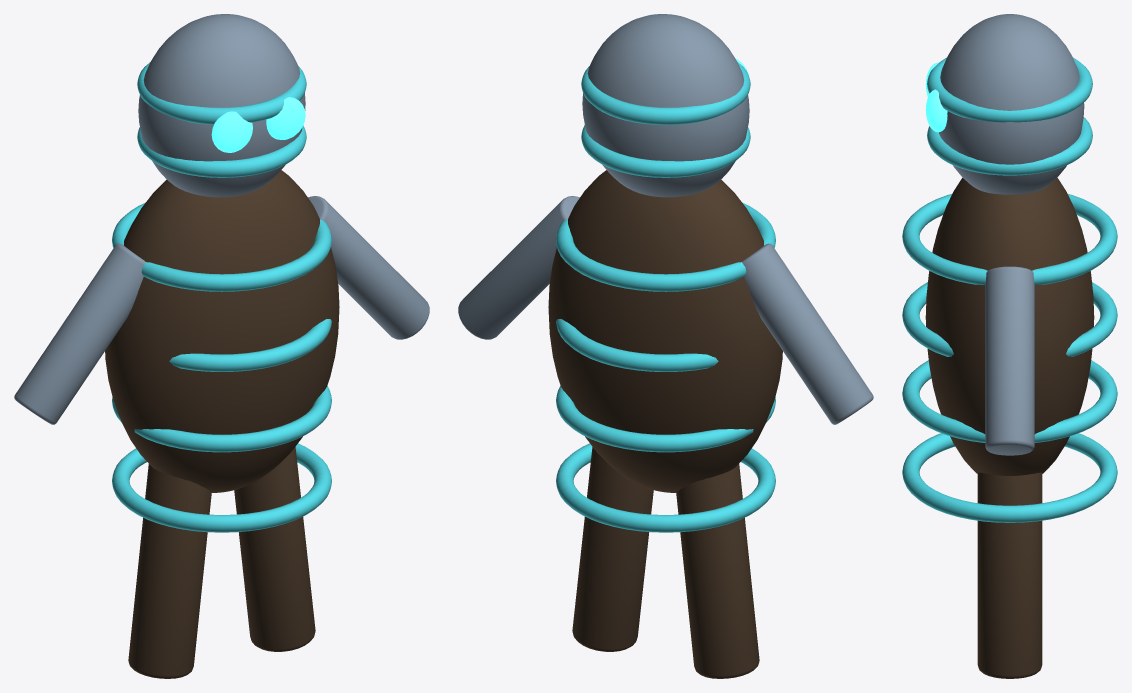
The model's file is undead_v4.glb.
3 views of the same model, side by side, from view 1: azimuth 30°, elevation 25°; view 2: azimuth 150°, elevation 25°; view 3: azimuth 270°, elevation 25° (orthographic). The views are drawn at different scales.
Visible parts, largest first — view 1: MUMMY_TORSO_SECONDARY, MUMMY_HEAD_PRIMARY, MUMMY_LEG_SECONDARY, MUMMY_LEG_SECONDARY.001, MUMMY_ARM_PRIMARY, MUMMY_ARM_PRIMARY.001, MUMMY_WRAP_ACCENT, MUMMY_WRAP_ACCENT.003, MUMMY_WRAP_ACCENT.001, MUMMY_WRAP_ACCENT.002, MUMMY_WRAP_ACCENT.004, MUMMY_WRAP_ACCENT.005 (+2 smaller); view 2: MUMMY_TORSO_SECONDARY, MUMMY_HEAD_PRIMARY, MUMMY_LEG_SECONDARY, MUMMY_LEG_SECONDARY.001, MUMMY_ARM_PRIMARY, MUMMY_ARM_PRIMARY.001, MUMMY_WRAP_ACCENT, MUMMY_WRAP_ACCENT.003, MUMMY_WRAP_ACCENT.001, MUMMY_WRAP_ACCENT.005, MUMMY_WRAP_ACCENT.002, MUMMY_WRAP_ACCENT.004; view 3: MUMMY_TORSO_SECONDARY, MUMMY_HEAD_PRIMARY, MUMMY_LEG_SECONDARY.001, MUMMY_ARM_PRIMARY.001, MUMMY_WRAP_ACCENT, MUMMY_WRAP_ACCENT.003, MUMMY_WRAP_ACCENT.001, MUMMY_WRAP_ACCENT.005, MUMMY_WRAP_ACCENT.002, MUMMY_WRAP_ACCENT.004, EYE_EMISSIVE.001.
Boxes of the visible parts, x1,y1,x2,y2 form: MUMMY_TORSO_SECONDARY: (105,170,339,492); MUMMY_HEAD_PRIMARY: (138,14,305,197); MUMMY_LEG_SECONDARY: (128,464,211,678); MUMMY_LEG_SECONDARY.001: (234,447,315,651); MUMMY_ARM_PRIMARY: (14,243,145,424); MUMMY_ARM_PRIMARY.001: (308,196,429,339); MUMMY_WRAP_ACCENT: (112,443,331,532); MUMMY_WRAP_ACCENT.003: (112,202,331,291); MUMMY_WRAP_ACCENT.001: (112,386,331,452); MUMMY_WRAP_ACCENT.002: (169,319,331,371); MUMMY_WRAP_ACCENT.004: (137,125,306,177); MUMMY_WRAP_ACCENT.005: (137,62,306,124); MUMMY_TORSO_SECONDARY: (548,170,782,492); MUMMY_HEAD_PRIMARY: (582,14,749,197); MUMMY_LEG_SECONDARY: (676,464,759,678); MUMMY_LEG_SECONDARY.001: (572,447,653,651); MUMMY_ARM_PRIMARY: (742,243,873,424); MUMMY_ARM_PRIMARY.001: (458,196,579,339); MUMMY_WRAP_ACCENT: (556,443,775,532); MUMMY_WRAP_ACCENT.003: (556,202,775,291); MUMMY_WRAP_ACCENT.001: (556,386,775,452); MUMMY_WRAP_ACCENT.005: (581,62,750,125); MUMMY_WRAP_ACCENT.002: (556,319,718,371); MUMMY_WRAP_ACCENT.004: (581,125,750,177); MUMMY_TORSO_SECONDARY: (925,177,1094,475); MUMMY_HEAD_PRIMARY: (939,14,1084,194); MUMMY_LEG_SECONDARY.001: (977,472,1042,678); MUMMY_ARM_PRIMARY.001: (985,266,1034,455); MUMMY_WRAP_ACCENT: (902,433,1117,522); MUMMY_WRAP_ACCENT.003: (902,194,1117,284); MUMMY_WRAP_ACCENT.001: (902,360,1117,442); MUMMY_WRAP_ACCENT.005: (927,57,1092,122); MUMMY_WRAP_ACCENT.002: (902,282,1117,356); MUMMY_WRAP_ACCENT.004: (927,117,1092,175); EYE_EMISSIVE.001: (925,89,947,132).
Bounding box in the file's own units: 1.86 × 2.77 × 0.87.
